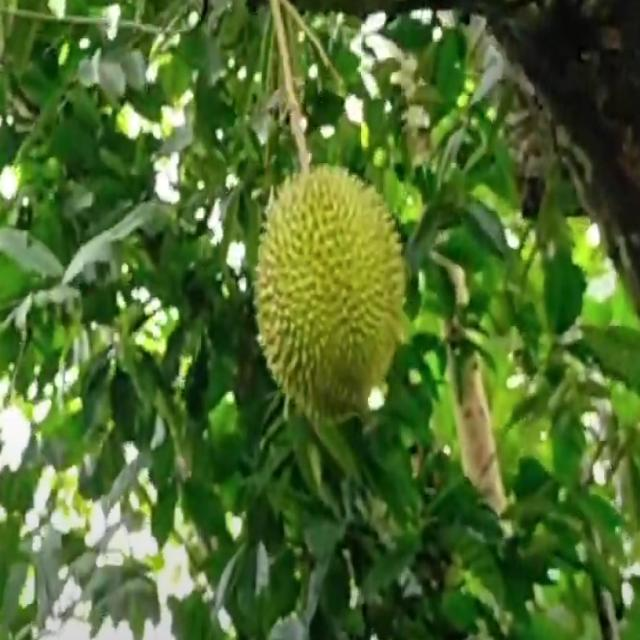immature: (255, 161, 407, 428)
